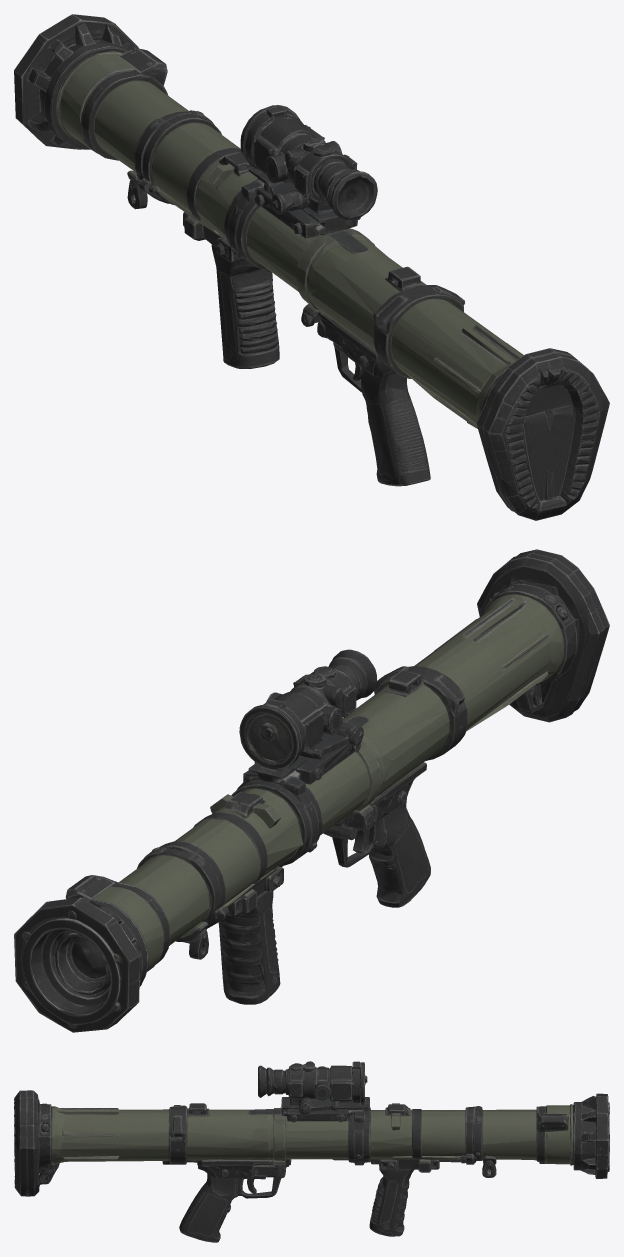
File: launcher.glb
3 renders of one model, top to bottom at view 1: azimuth 30°, elevation 25°; view 2: azimuth 150°, elevation 25°; view 3: azimuth 270°, elevation 25°, orthographic. The views are drawn at different scales.
Visible parts, largest first — view 1: output_unwrapped; view 2: output_unwrapped; view 3: output_unwrapped.
Part boxes in pixels (bbox=[...]): output_unwrapped: bbox=[14, 14, 609, 520]; output_unwrapped: bbox=[14, 549, 609, 1032]; output_unwrapped: bbox=[14, 1061, 609, 1242].
Bounding box in the file's own units: 0.141 × 0.3134 × 0.9596.
1 material, 1 textured.
